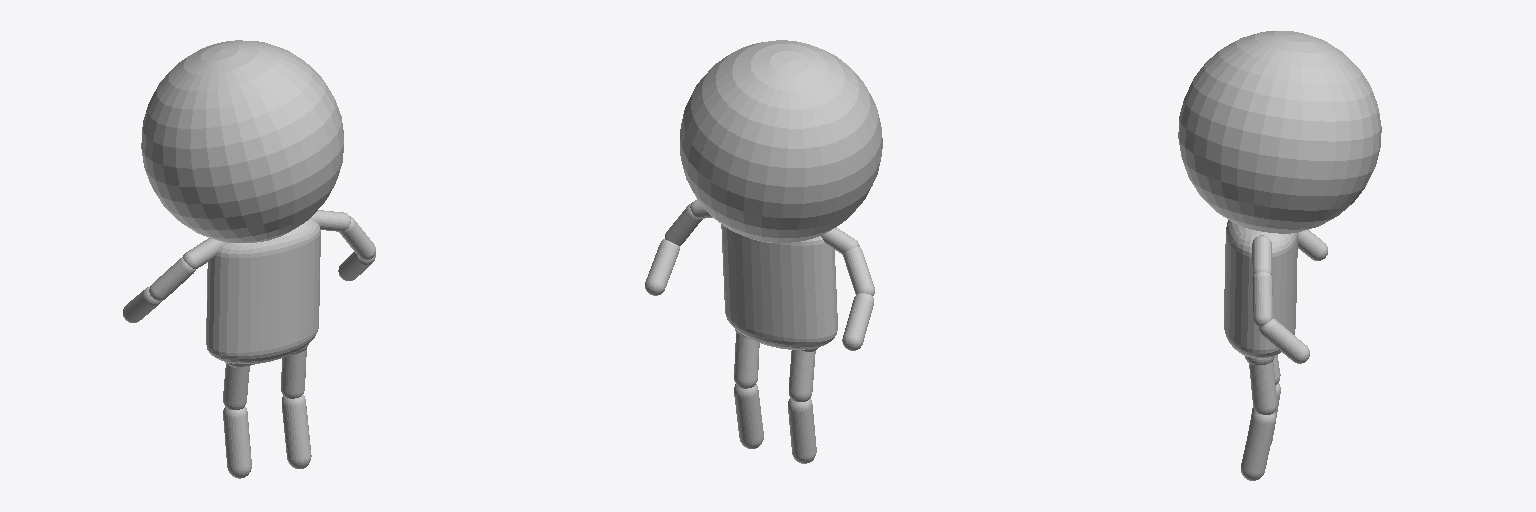
File: Stickman_000081.obj
3 renders of one model, left to right at view 1: azimuth 30°, elevation 25°; view 2: azimuth 150°, elevation 25°; view 3: azimuth 270°, elevation 25°, orthographic.
Parts seen in each view (by area): view 1: Head_Sphere.001, Body_Roundcube.002, LowerLegLeft_Roundcube.013, LowerLegRight_Roundcube.011, UpperLegLeft_Roundcube.012, UpperLegRight_Roundcube.010, UpperArmRight_Roundcube.015, UpperArmLeft_Roundcube.018, LowerArmRight_Roundcube.016, ShoulderRight_Roundcube.014, ShoulderLeft_Roundcube.017, LowerArmLeft_Roundcube.019; view 2: Head_Sphere.001, Body_Roundcube.002, LowerLegRight_Roundcube.011, LowerLegLeft_Roundcube.013, UpperLegRight_Roundcube.010, LowerArmRight_Roundcube.016, UpperLegLeft_Roundcube.012, LowerArmLeft_Roundcube.019, UpperArmRight_Roundcube.015, UpperArmLeft_Roundcube.018, ShoulderRight_Roundcube.014; view 3: Head_Sphere.001, Body_Roundcube.002, LowerLegLeft_Roundcube.013, UpperLegLeft_Roundcube.012, LowerArmLeft_Roundcube.019, UpperArmLeft_Roundcube.018, ShoulderLeft_Roundcube.017, LowerArmRight_Roundcube.016.
Part boxes in pixels (left/top/right/bottom): Head_Sphere.001: left=141, top=40, right=343, bottom=242; Body_Roundcube.002: left=206, top=219, right=320, bottom=363; LowerLegLeft_Roundcube.013: left=282, top=395, right=311, bottom=468; LowerLegRight_Roundcube.011: left=223, top=407, right=251, bottom=478; UpperLegLeft_Roundcube.012: left=281, top=349, right=306, bottom=398; UpperLegRight_Roundcube.010: left=223, top=364, right=249, bottom=409; UpperArmRight_Roundcube.015: left=149, top=257, right=195, bottom=300; UpperArmLeft_Roundcube.018: left=339, top=216, right=375, bottom=259; LowerArmRight_Roundcube.016: left=123, top=287, right=161, bottom=322; ShoulderRight_Roundcube.014: left=183, top=238, right=224, bottom=269; ShoulderLeft_Roundcube.017: left=310, top=210, right=350, bottom=231; LowerArmLeft_Roundcube.019: left=338, top=252, right=375, bottom=280; Head_Sphere.001: left=680, top=40, right=882, bottom=242; Body_Roundcube.002: left=721, top=224, right=837, bottom=349; LowerLegRight_Roundcube.011: left=788, top=398, right=816, bottom=463; LowerLegLeft_Roundcube.013: left=734, top=384, right=763, bottom=448; UpperLegRight_Roundcube.010: left=789, top=350, right=815, bottom=401; LowerArmRight_Roundcube.016: left=842, top=293, right=873, bottom=350; UpperLegLeft_Roundcube.012: left=734, top=333, right=759, bottom=388; LowerArmLeft_Roundcube.019: left=645, top=239, right=679, bottom=295; UpperArmRight_Roundcube.015: left=843, top=247, right=874, bottom=295; UpperArmLeft_Roundcube.018: left=665, top=203, right=702, bottom=245; ShoulderRight_Roundcube.014: left=821, top=227, right=859, bottom=254; Head_Sphere.001: left=1178, top=31, right=1381, bottom=233; Body_Roundcube.002: left=1224, top=220, right=1297, bottom=358; LowerLegLeft_Roundcube.013: left=1241, top=411, right=1275, bottom=480; UpperLegLeft_Roundcube.012: left=1249, top=362, right=1276, bottom=414; LowerArmLeft_Roundcube.019: left=1259, top=318, right=1309, bottom=363; UpperArmLeft_Roundcube.018: left=1252, top=272, right=1272, bottom=326; ShoulderLeft_Roundcube.017: left=1252, top=235, right=1271, bottom=274; LowerArmRight_Roundcube.016: left=1298, top=230, right=1327, bottom=260.
Bounding box in the file's own units: 7.48 × 13.27 × 5.84.